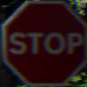Stop: (4, 1, 83, 77)
